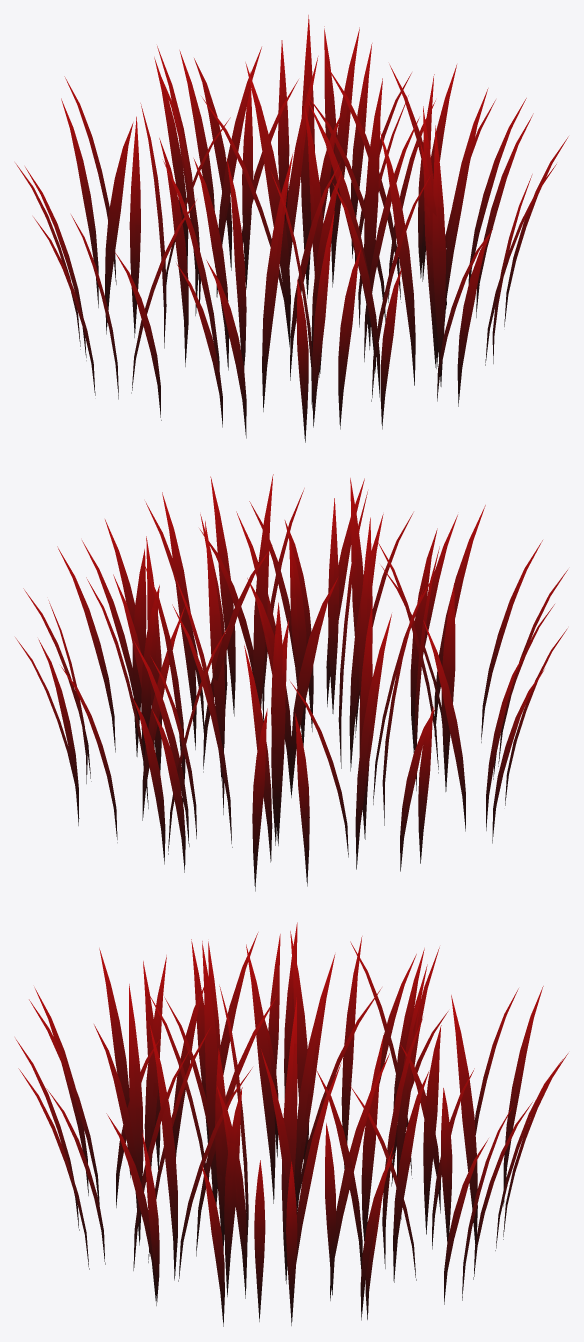
File: Grass_1_LOD1.fbx
3 renders of one model, top to bottom at view 1: azimuth 30°, elevation 25°; view 2: azimuth 150°, elevation 25°; view 3: azimuth 270°, elevation 25°, orthographic.
Visible parts, largest first — view 1: Grass.002; view 2: Grass.002; view 3: Grass.002.
Part boxes in pixels (x1,y1,x2,y2): Grass.002: (15, 15, 568, 442); Grass.002: (15, 474, 567, 891); Grass.002: (15, 922, 568, 1326).
Bounding box in the file's own units: 0.9924 × 0.548 × 0.9692.
